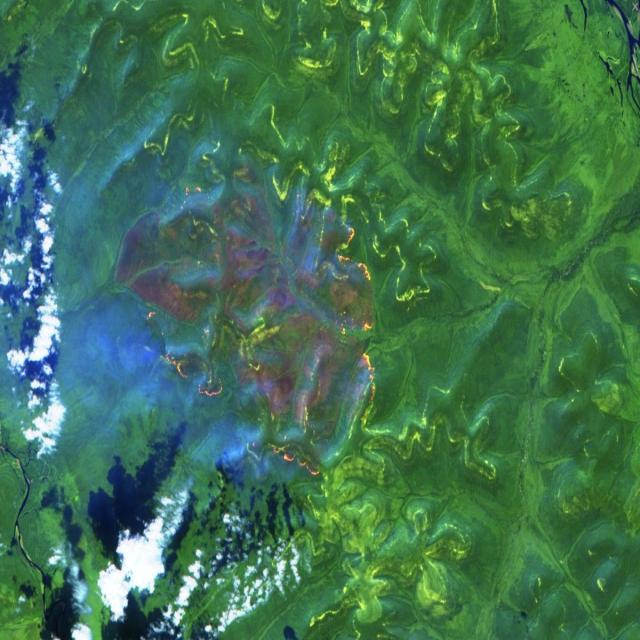fire: (343, 274, 397, 436), (252, 421, 326, 498), (157, 342, 228, 417), (148, 155, 229, 218)
